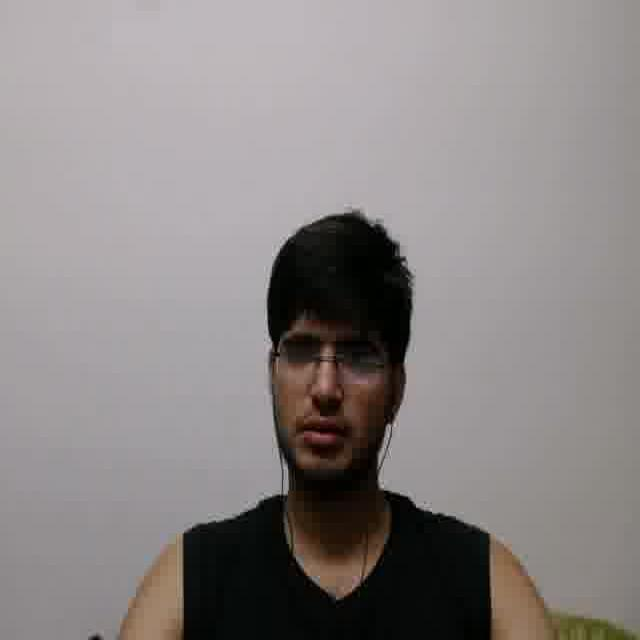Frustration: (267, 284, 391, 484)
